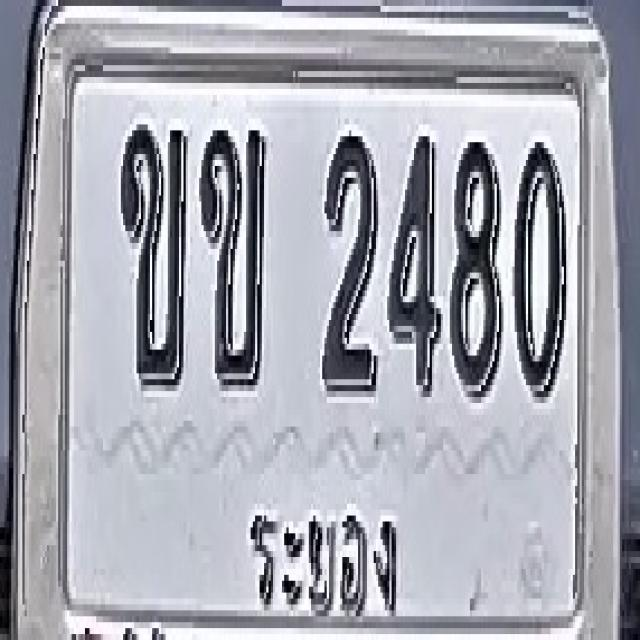0: (514, 136, 565, 397)
2: (322, 130, 378, 391)
4: (388, 130, 440, 397)
8: (450, 136, 501, 397)
A02: (120, 122, 187, 388), (199, 125, 266, 391)
RYG: (240, 472, 406, 622)
